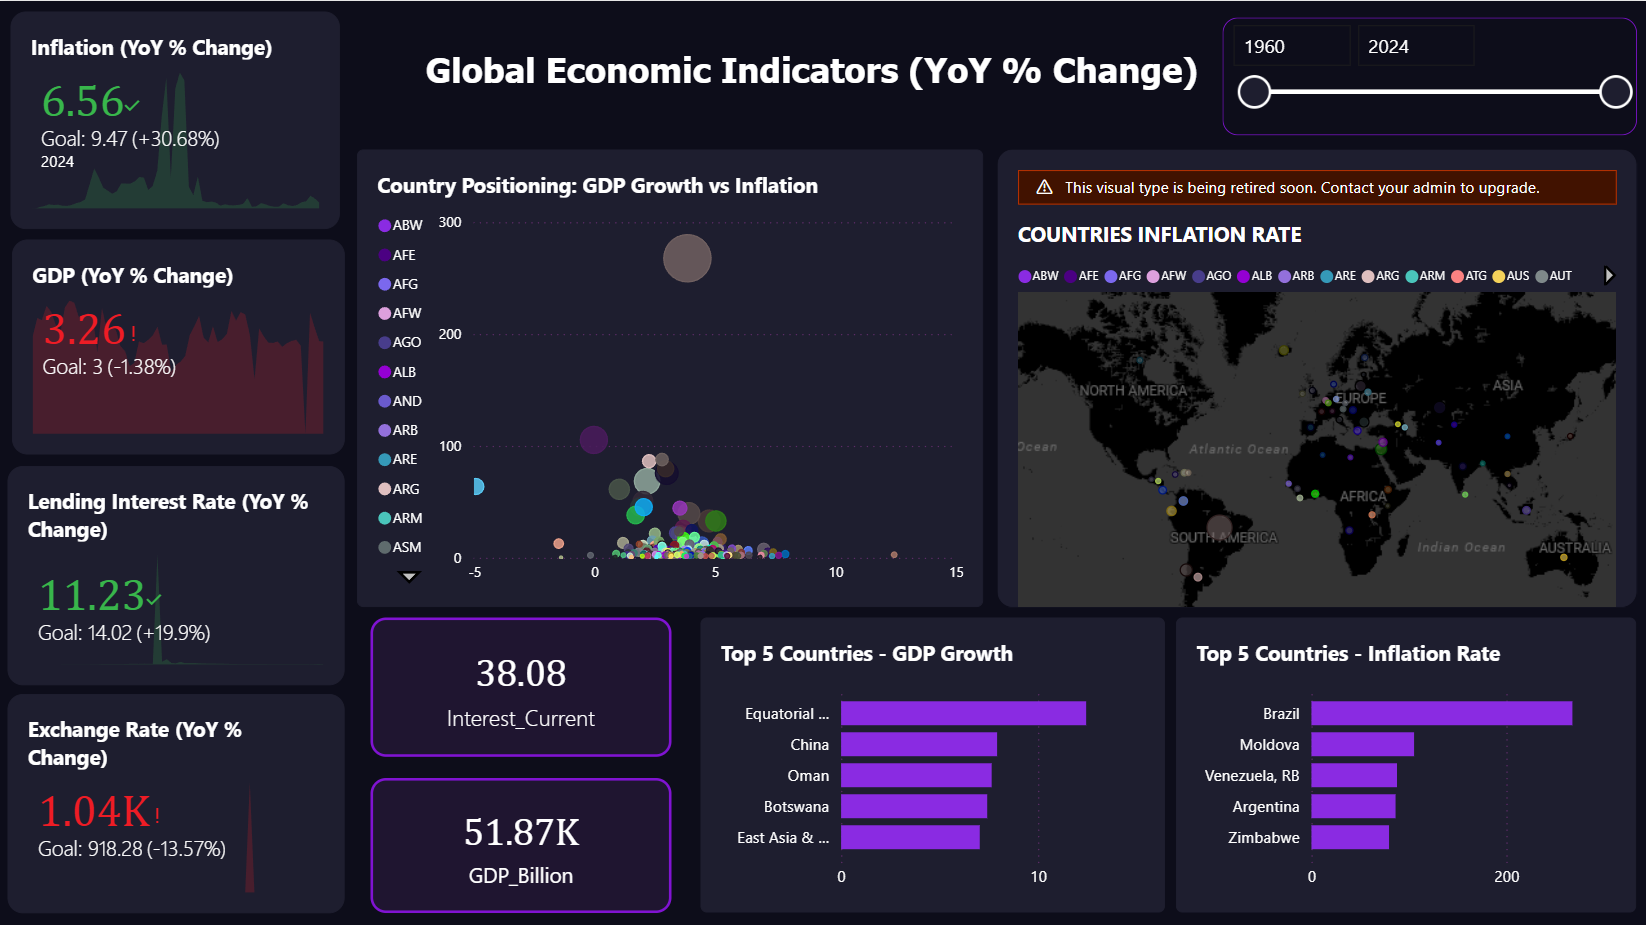

The dashboard page shown, as its layout file describes it:
{"tool":"powerbi","page":{"name":"Page 1","canvas":[1280,720],"ordinal":0},"visuals":[{"type":"textbox","box":[314.4,36.7,635.6,43.3],"z":0},{"type":"slicer","fields":{"Values":["ECONOMIC_FACT.YEAR"]},"box":[950,13.3,321.1,91.1],"z":1000},{"type":"card","fields":{"Values":["CORRELATION_MARKET_ECON.GDP_Billion"]},"box":[290,602.2,233.3,104.4],"z":2000},{"type":"card","fields":{"Values":["CORRELATION_MARKET_ECON.Interest_Current"]},"box":[290,477.8,233.3,107.8],"z":3000},{"type":"map","title":"COUNTRIES INFLATION RATE","fields":{"Category":["ECONOMIC_FACT.COUNTRY_NAME"],"Series":["ECONOMIC_FACT.COUNTRY_CODE"],"Size":["Sum(ECONOMIC_FACT.INFLATION_RATE)"]},"box":[775.6,115.6,495.6,354.4],"z":4000},{"type":"kpi","title":"Inflation (YoY % Change)","fields":{"Indicator":["CORRELATION_MARKET_ECON.Inflation_SelectedYear"],"TrendLine":["ECONOMIC_FACT.YEAR"],"Goal":["CORRELATION_MARKET_ECON.Inflation_PreviousYear"]},"box":[10,7.8,255.6,168.9],"z":5000},{"type":"kpi","title":"GDP (YoY % Change)","fields":{"Goal":["CORRELATION_MARKET_ECON.GDP_PreviousYear"],"Indicator":["CORRELATION_MARKET_ECON.GDP_SelectedYear"],"TrendLine":["ECONOMIC_FACT.YEAR"]},"box":[11.1,184.4,257.8,166.7],"z":6000},{"type":"kpi","title":"Lending Interest Rate (YoY % Change)","fields":{"Goal":["CORRELATION_MARKET_ECON.Lending_PreviousYear"],"Indicator":["CORRELATION_MARKET_ECON.Lending_SelectedYear"],"TrendLine":["ECONOMIC_FACT.YEAR"]},"box":[7.8,360,261.1,170],"z":7000},{"type":"kpi","title":"Exchange Rate (YoY % Change)","fields":{"Goal":["CORRELATION_MARKET_ECON.Exchange_PreviousYear"],"TrendLine":["ECONOMIC_FACT.YEAR"],"Indicator":["CORRELATION_MARKET_ECON.Exchange_SelectedYear"]},"box":[7.8,536.7,261.1,170],"z":8000},{"type":"barChart","title":"Top 5 Countries - GDP Growth","fields":{"Y":["Avg(ECONOMIC_FACT.GDP_GROWTH)"],"Category":["ECONOMIC_FACT.COUNTRY_NAME"]},"box":[545.6,477.8,360,228.9],"z":9000},{"type":"scatterChart","title":"Country Positioning: GDP Growth vs Inflation","fields":{"Series":["ECONOMIC_FACT.COUNTRY_CODE"],"Category":["ECONOMIC_FACT.COUNTRY_NAME"],"Size":["CORRELATION_MARKET_ECON.BubbleSize"],"X":["Avg(ECONOMIC_FACT.GDP_GROWTH)"],"Y":["Avg(ECONOMIC_FACT.INFLATION_RATE)"]},"box":[278.9,115.6,485.6,354.4],"z":10000},{"type":"barChart","title":"Top 5 Countries - Inflation Rate","fields":{"Y":["CORRELATION_MARKET_ECON.Inflation %"],"Category":["ECONOMIC_FACT.COUNTRY_NAME"]},"box":[914.4,477.8,356.7,228.9],"z":11000}]}

Visuals, with their boxes in screenshot pixels (x1, y1, x2, y2), scaled from the page's 1280x720 canvas onto the 1646x925 screenshot:
textbox: <bbox>404, 47, 1222, 103</bbox>
slicer - ECONOMIC_FACT.YEAR: <bbox>1222, 17, 1635, 134</bbox>
card - CORRELATION_MARKET_ECON.GDP_Billion: <bbox>373, 774, 673, 908</bbox>
card - CORRELATION_MARKET_ECON.Interest_Current: <bbox>373, 614, 673, 752</bbox>
"COUNTRIES INFLATION RATE" map: <bbox>997, 149, 1635, 604</bbox>
"Inflation (YoY % Change)" kpi: <bbox>13, 10, 342, 227</bbox>
"GDP (YoY % Change)" kpi: <bbox>14, 237, 346, 451</bbox>
"Lending Interest Rate (YoY % Change)" kpi: <bbox>10, 463, 346, 681</bbox>
"Exchange Rate (YoY % Change)" kpi: <bbox>10, 690, 346, 908</bbox>
"Top 5 Countries - GDP Growth" barChart: <bbox>702, 614, 1165, 908</bbox>
"Country Positioning: GDP Growth vs Inflation" scatterChart: <bbox>359, 149, 983, 604</bbox>
"Top 5 Countries - Inflation Rate" barChart: <bbox>1176, 614, 1635, 908</bbox>
